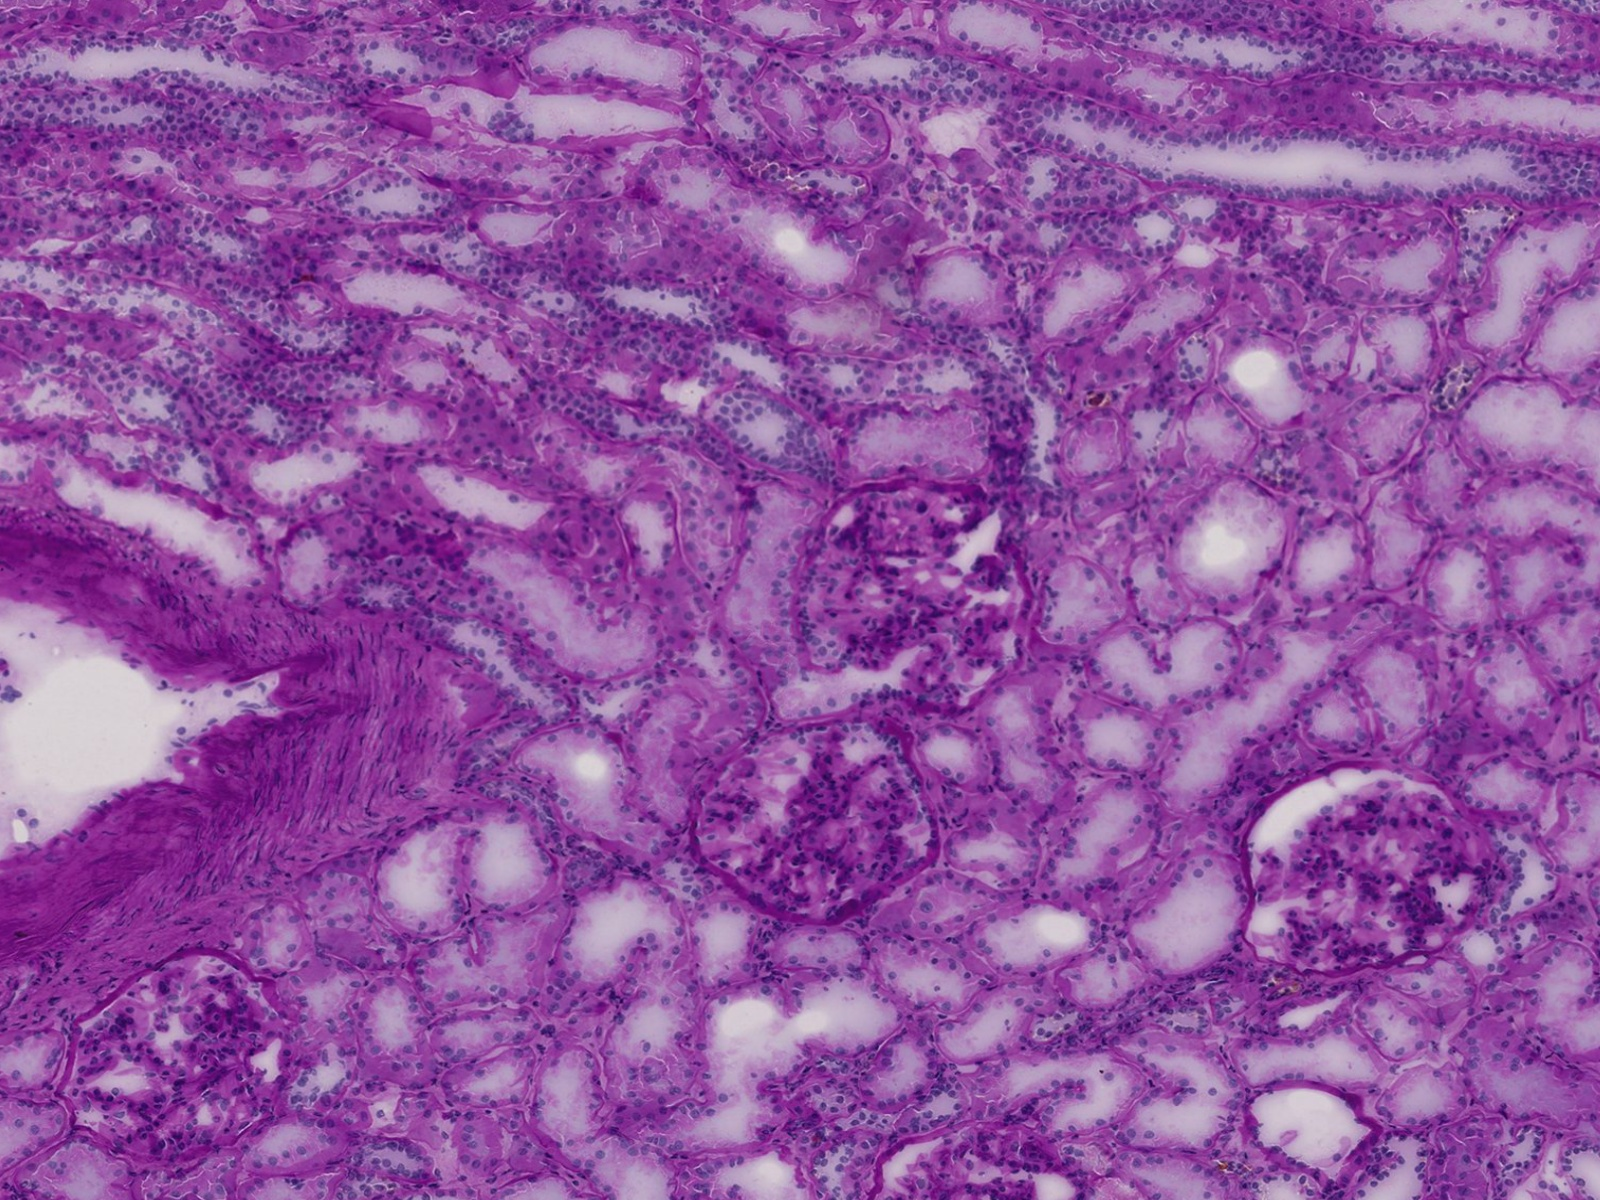Glomeruli: (784, 479, 1036, 720), (1236, 766, 1489, 984), (689, 711, 939, 929), (66, 952, 301, 1176)
